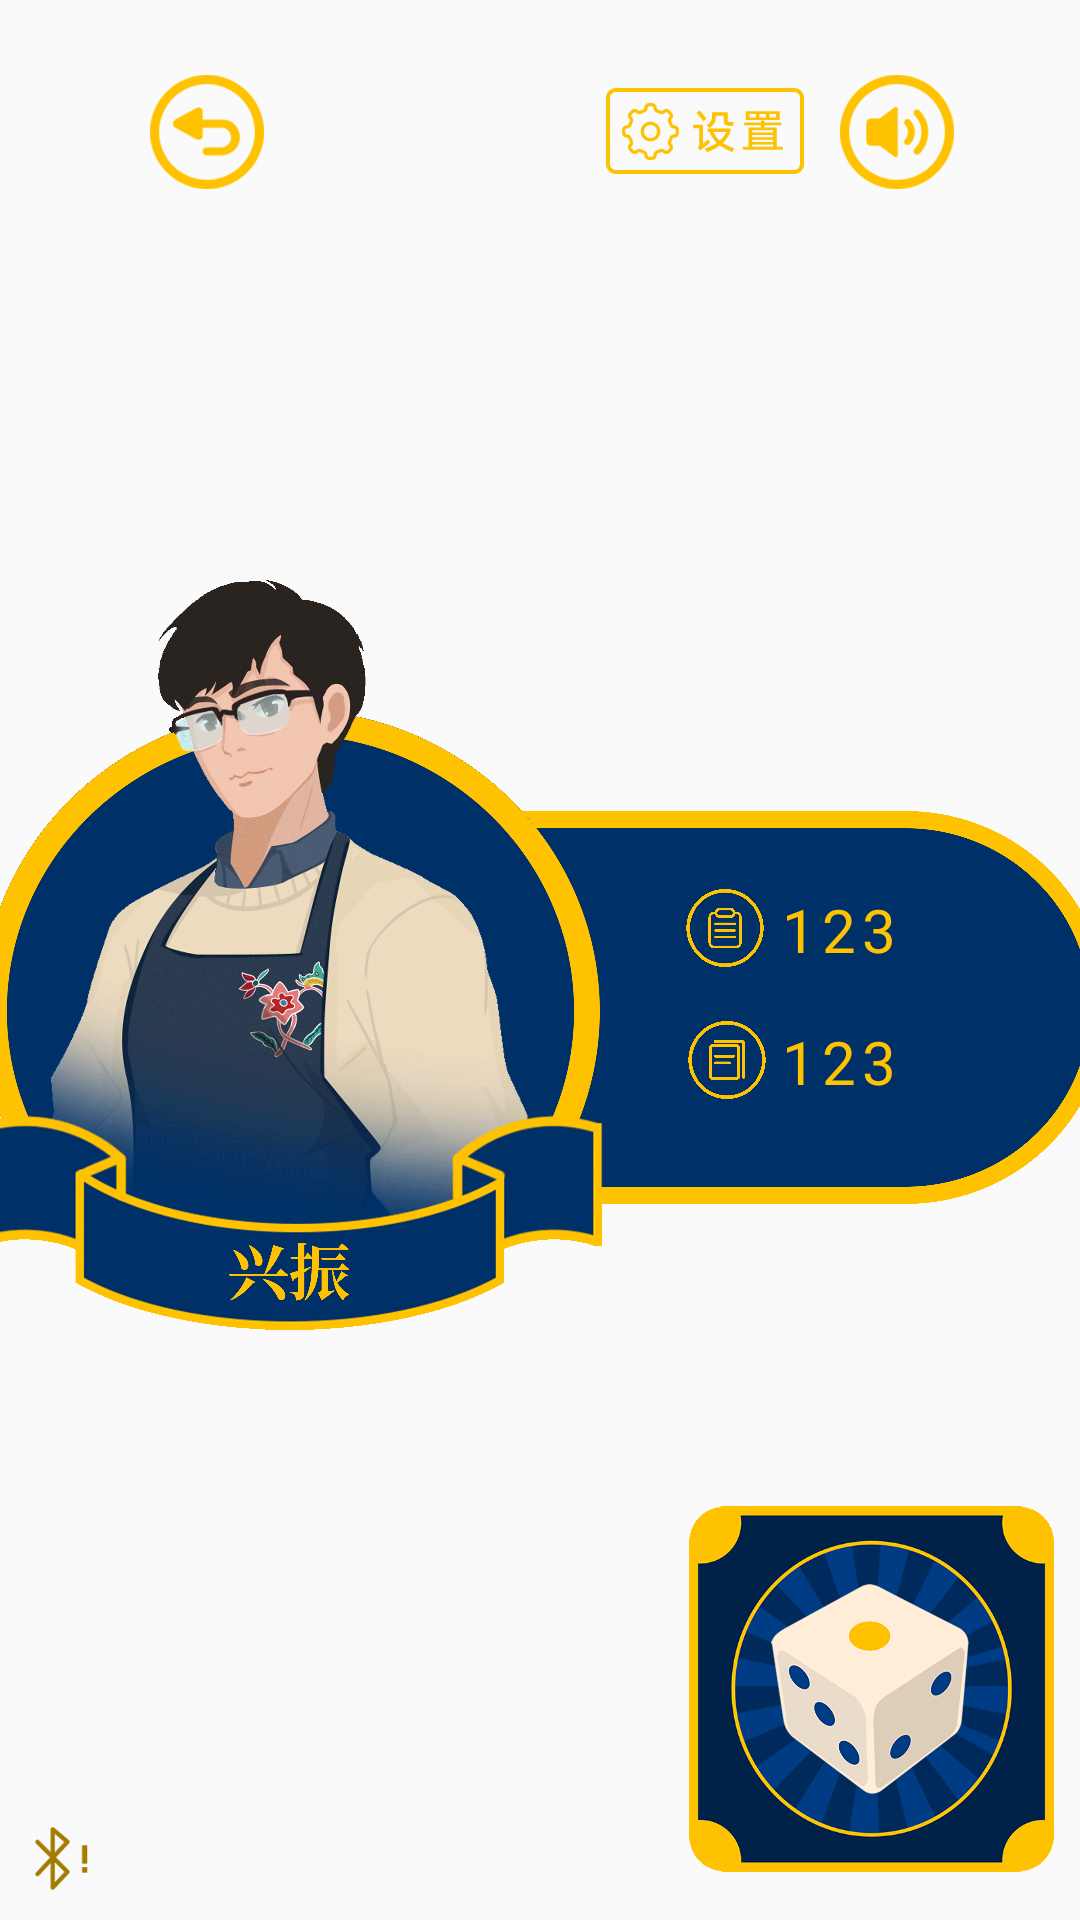

Where to tap for icons on this 1080 × 1920 app screen, as point (x, y):
tuichu: point (207, 132)
yinyue: point (897, 132)
